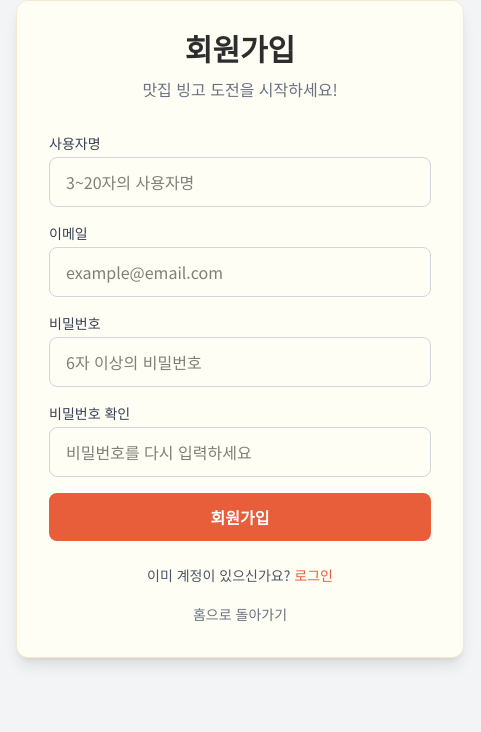
RegisterPage › 에러 처리 › API 에러 시 필드별 에러 메시지를 표시해야 한다
Type "testuser" into the field labelled "사용자명".
click(240, 182); type("testuser")  # box [49,157,431,207]
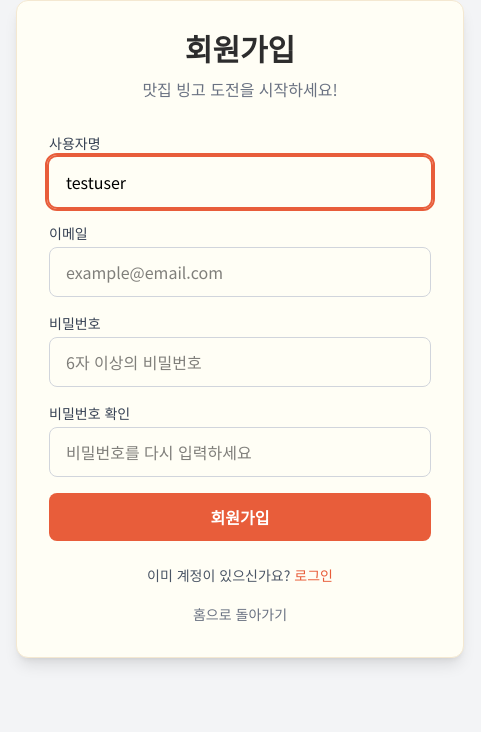
Type "test@test.com" into the field labelled "이메일".
click(240, 272); type("test@test.com")  # box [49,247,431,297]
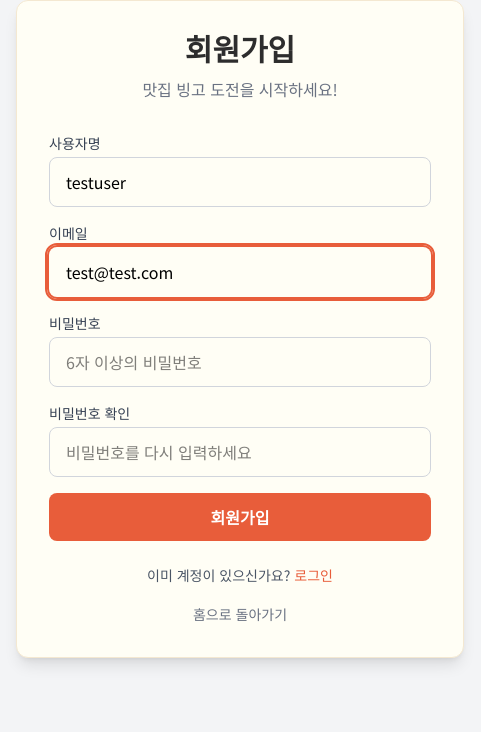
Type "password123" into the password field labelled "비밀번호".
click(240, 362); type("password123")  # box [49,337,431,387]
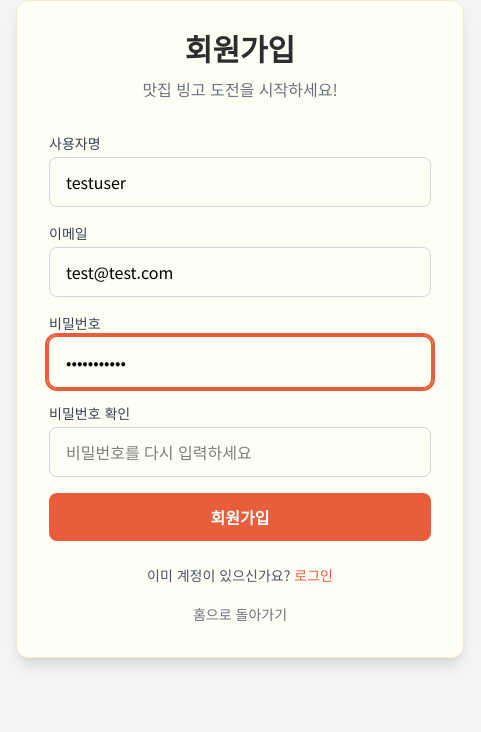
Type "password123" into the password field labelled "비밀번호 확인".
click(240, 452); type("password123")  # box [49,427,431,477]
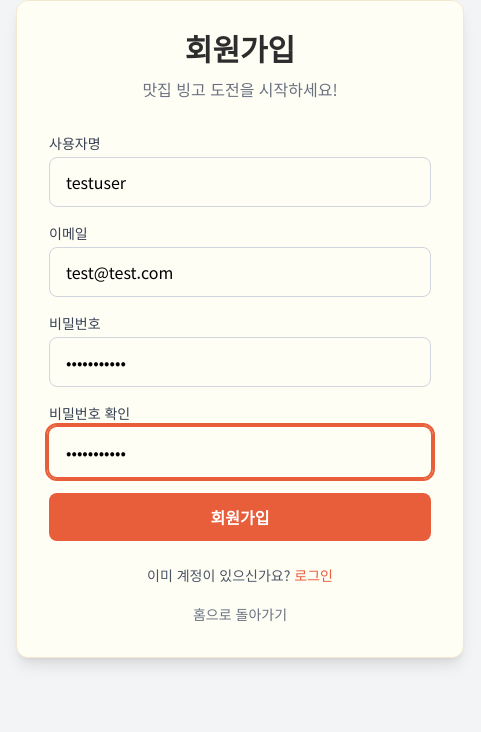
Click the button "회원가입".
click(240, 517)  # box [49,493,431,541]
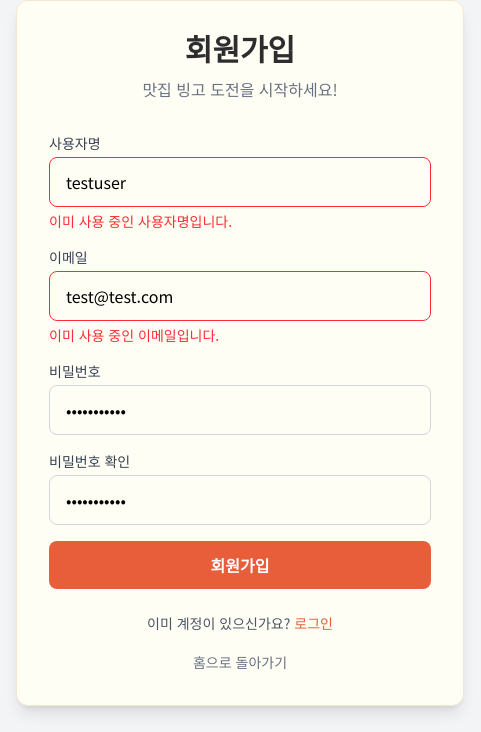
Expected: the text "이미 사용 중인 사용자명입니다." is shown, [49,211,232,231]
Expected: the text "이미 사용 중인 이메일입니다." is shown, [49,325,219,345]
